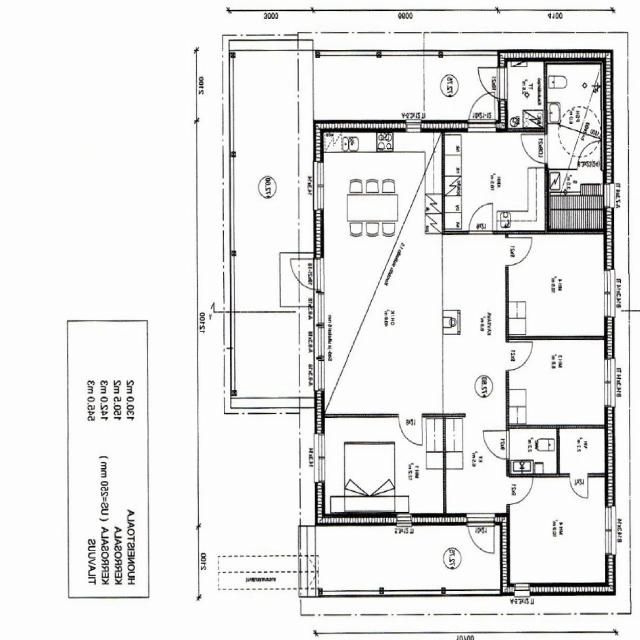door: (469, 67, 507, 100), (468, 513, 495, 557), (469, 87, 495, 132), (288, 259, 324, 290), (482, 430, 510, 459), (506, 341, 534, 370), (469, 202, 493, 234), (398, 414, 422, 446), (521, 134, 548, 162), (578, 138, 601, 170), (507, 238, 533, 266), (507, 478, 531, 504), (570, 472, 588, 498)
